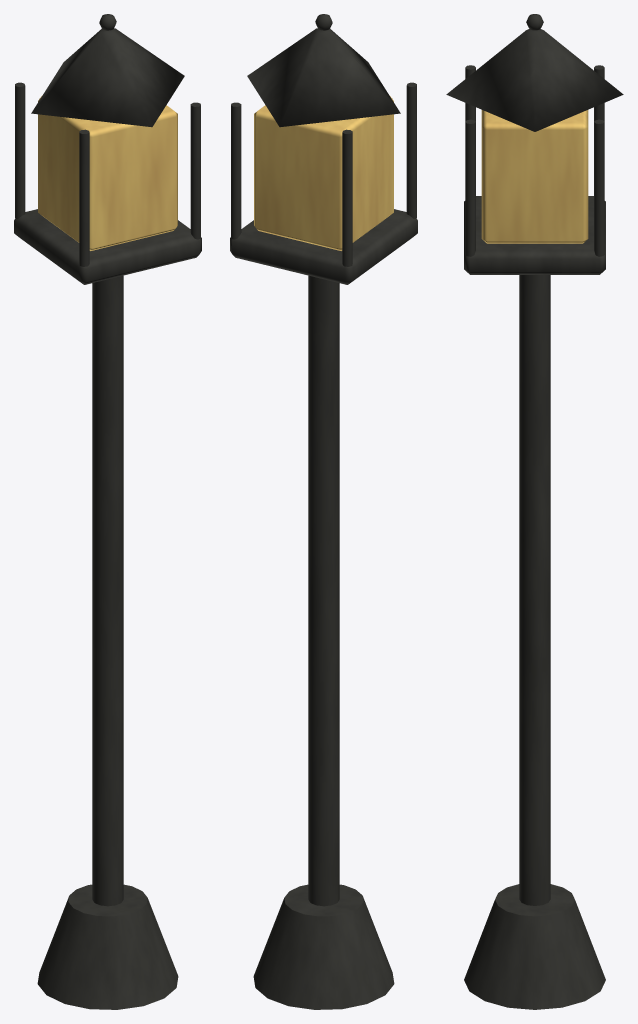
The model's file is Furn_LampPost.fbx.
The picture shows the model from 3 angles, left to right: view 1: azimuth 30°, elevation 25°; view 2: azimuth 150°, elevation 25°; view 3: azimuth 270°, elevation 25°; orthographic projection.
Visible parts, largest first — view 1: Furn_LampPost_Mesh; view 2: Furn_LampPost_Mesh; view 3: Furn_LampPost_Mesh.
Part boxes in pixels (left/top/right/bottom): Furn_LampPost_Mesh: left=14, top=14, right=201, bottom=1009; Furn_LampPost_Mesh: left=230, top=14, right=417, bottom=1009; Furn_LampPost_Mesh: left=446, top=14, right=623, bottom=1009.
Bounding box in the file's own units: 0.4 × 2.4 × 0.4.
Materials: 2 (2 with a texture image).
